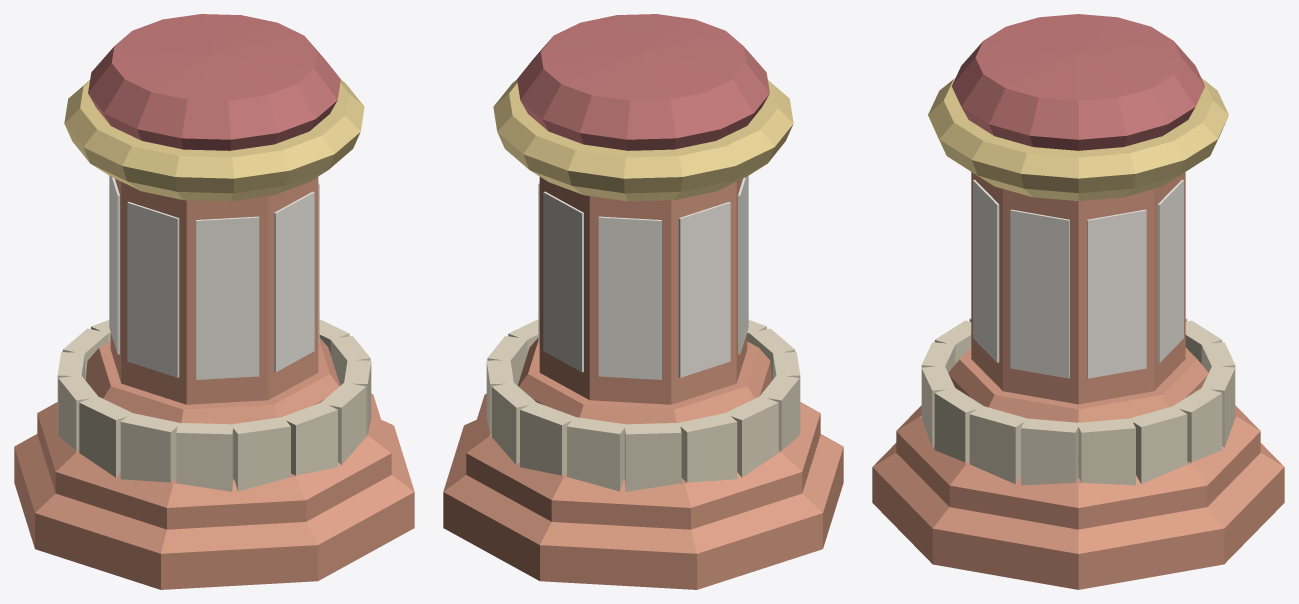
File: kit_pedestal2.glb
3 views of the same model, side by side, from view 1: azimuth 30°, elevation 25°; view 2: azimuth 150°, elevation 25°; view 3: azimuth 270°, elevation 25° (orthographic).
Parts seen in each view (by area): view 1: kit_pedestal2; view 2: kit_pedestal2; view 3: kit_pedestal2.
Part boxes in pixels (x1,y1,x2,y2): kit_pedestal2: (14,14,414,589); kit_pedestal2: (443,14,843,589); kit_pedestal2: (872,14,1284,589).
Size of the model in its own units: 1.04 by 1.25 by 1.04.
